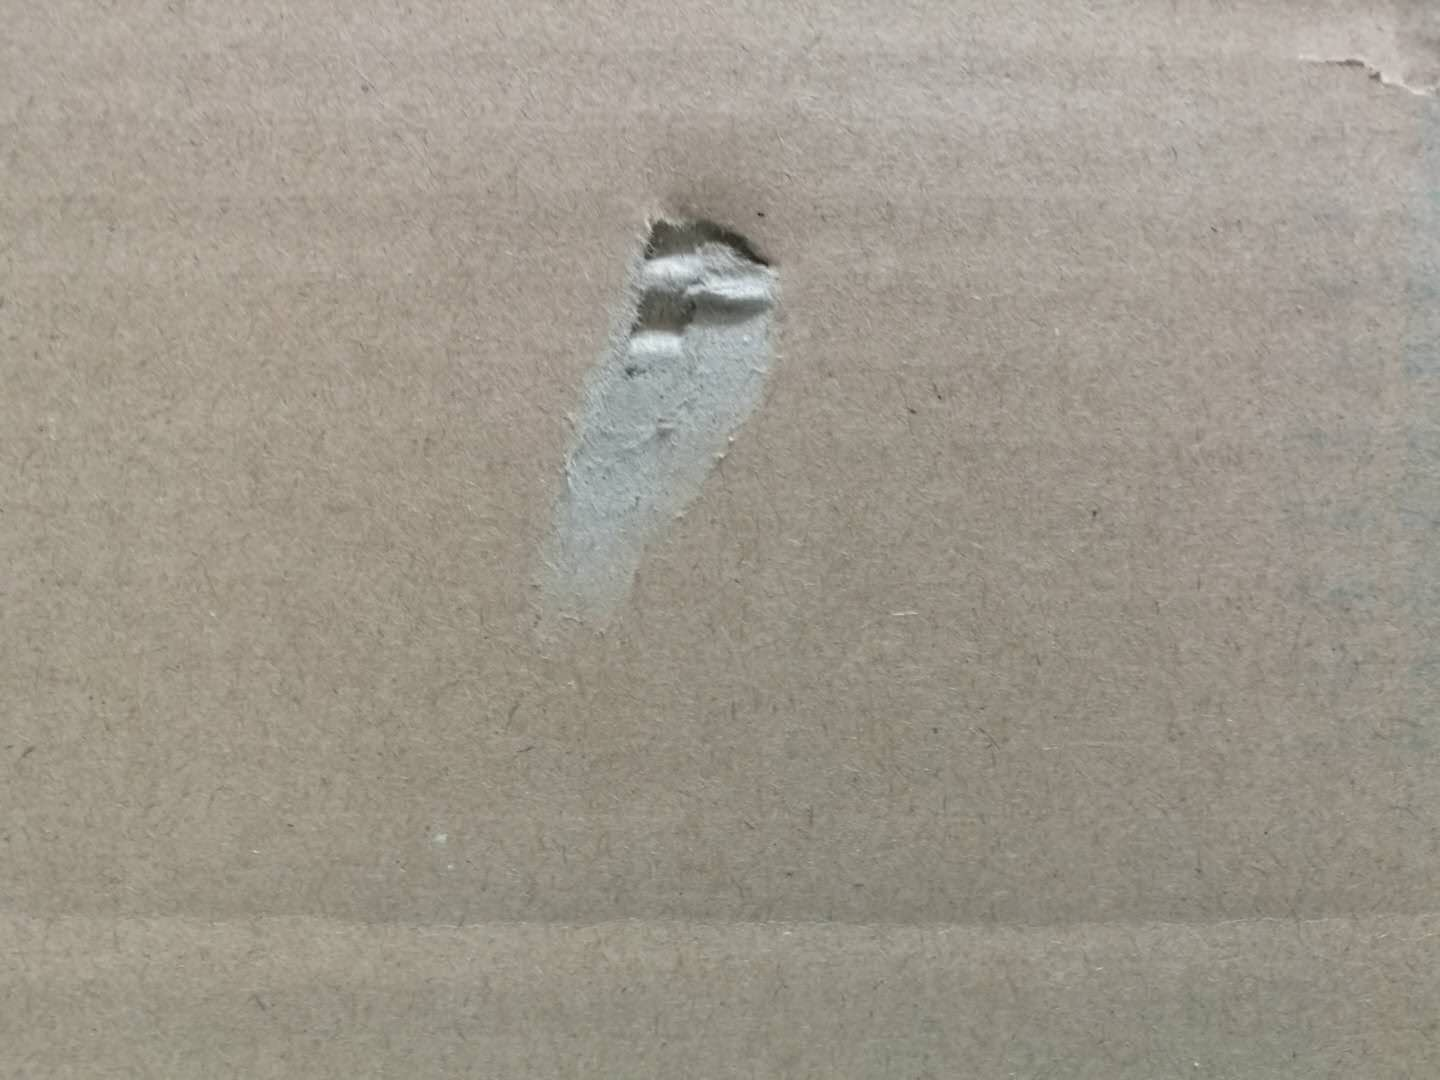defect: (501, 172, 832, 697), (1277, 2, 1440, 123)
